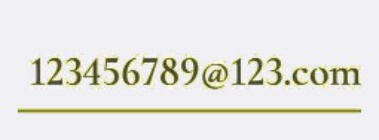EditText: (1, 1, 378, 139)
